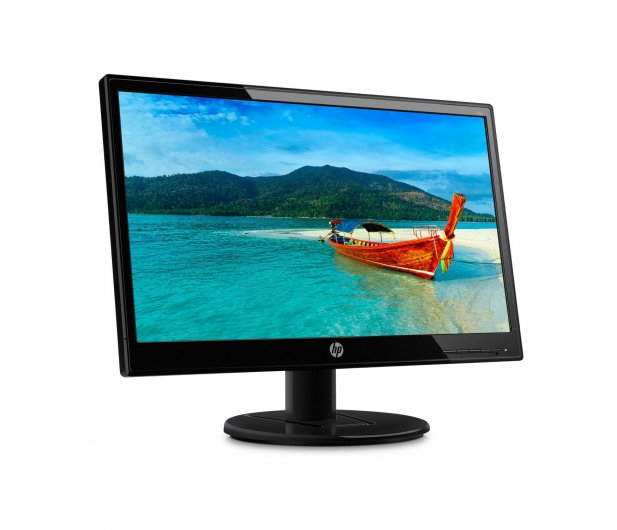hp-monitor-19ka: (93, 75, 520, 446)
